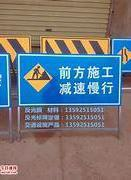sign: (18, 52, 122, 106)
